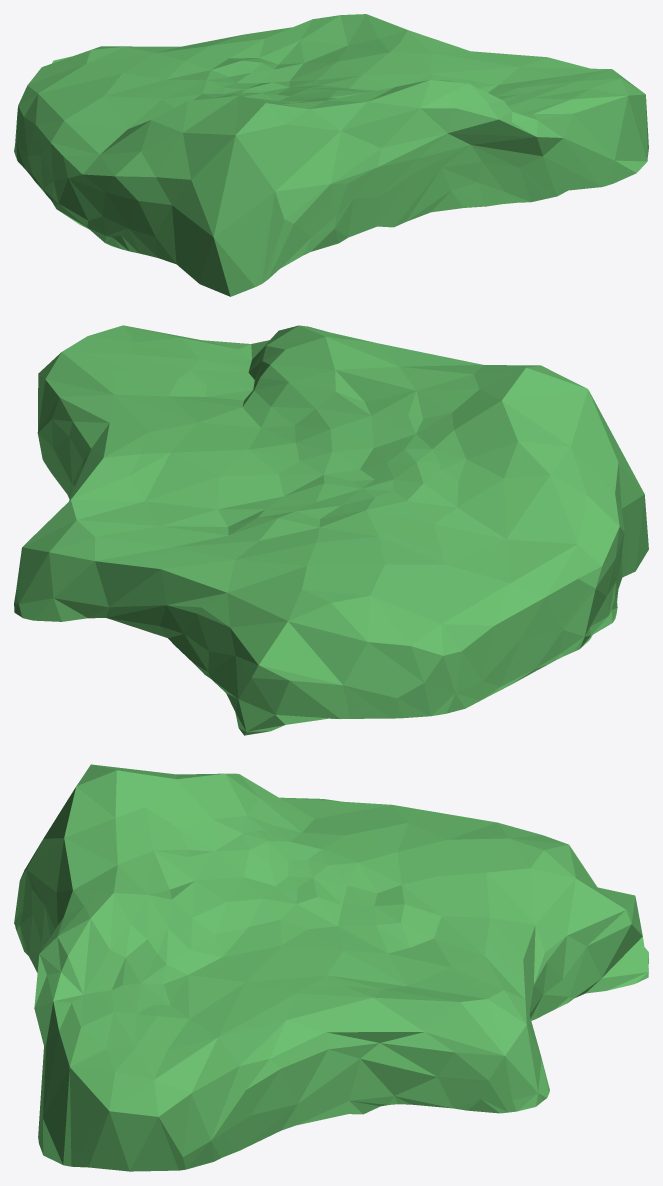
Rendered from ground_039.fbx.
The picture shows the model from 3 angles, top to bottom: view 1: azimuth 30°, elevation 25°; view 2: azimuth 150°, elevation 25°; view 3: azimuth 270°, elevation 25°; orthographic projection. The views are drawn at different scales.
Parts seen in each view (by area): view 1: ground.039; view 2: ground.039; view 3: ground.039.
Part boxes in pixels (left/top/right/bottom): ground.039: left=14, top=14, right=648, bottom=296; ground.039: left=14, top=325, right=648, bottom=735; ground.039: left=14, top=764, right=648, bottom=1171.
Bounding box in the file's own units: 2519 × 732 × 2127.
1 material, 1 textured.
